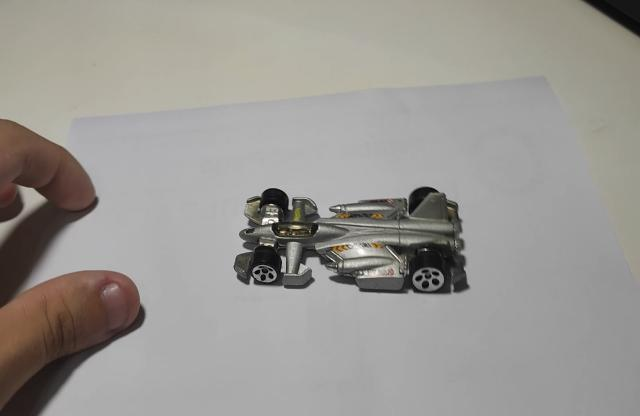05_DC121: (233, 187, 470, 297)
